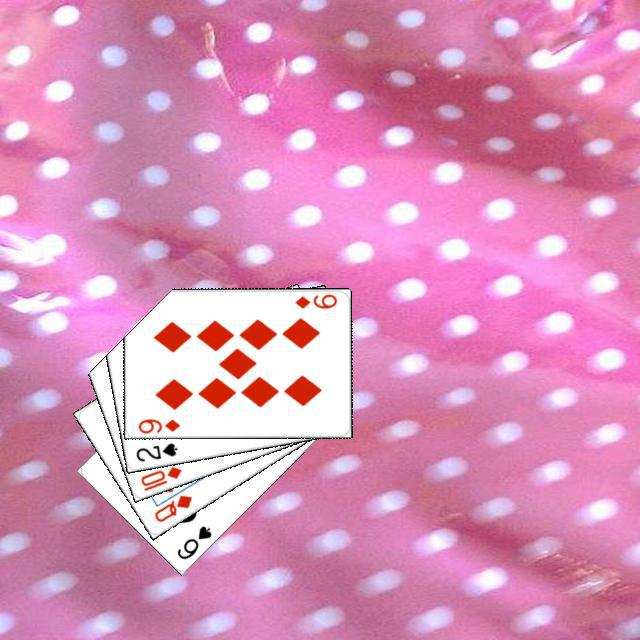10d: (136, 461, 183, 493)
2s: (131, 438, 179, 463)
6s: (172, 521, 214, 561)
9d: (133, 414, 182, 434), (290, 290, 338, 310)
Qd: (149, 490, 194, 524)
